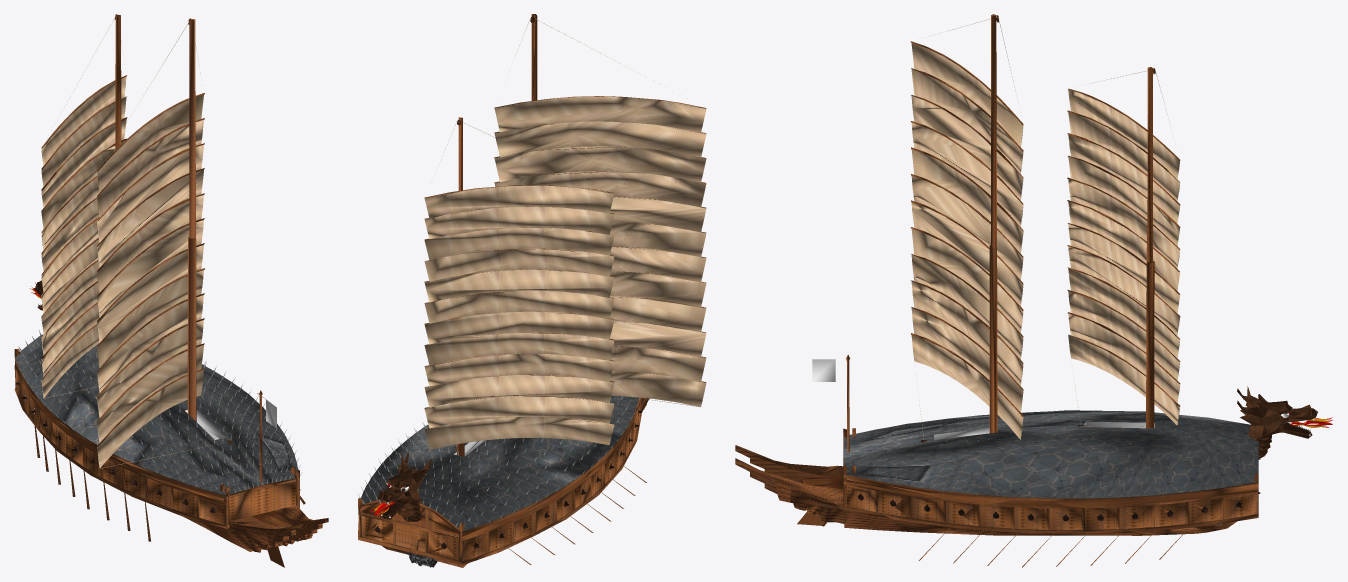
File: gbs.fbx
3 views of the same model, side by side, from view 1: azimuth 30°, elevation 25°; view 2: azimuth 150°, elevation 25°; view 3: azimuth 270°, elevation 25° (orthographic). The views are drawn at different scales.
Parts seen in each view (by area): view 1: Geobuksun; view 2: Geobuksun; view 3: Geobuksun.
Part boxes in pixels (bbox=[...]): Geobuksun: bbox=[14, 14, 328, 567]; Geobuksun: bbox=[358, 14, 706, 567]; Geobuksun: bbox=[735, 14, 1332, 567].
Bounding box in the file's own units: 597278 × 1219839 × 1295058.
Materials: 21 (14 with a texture image).
